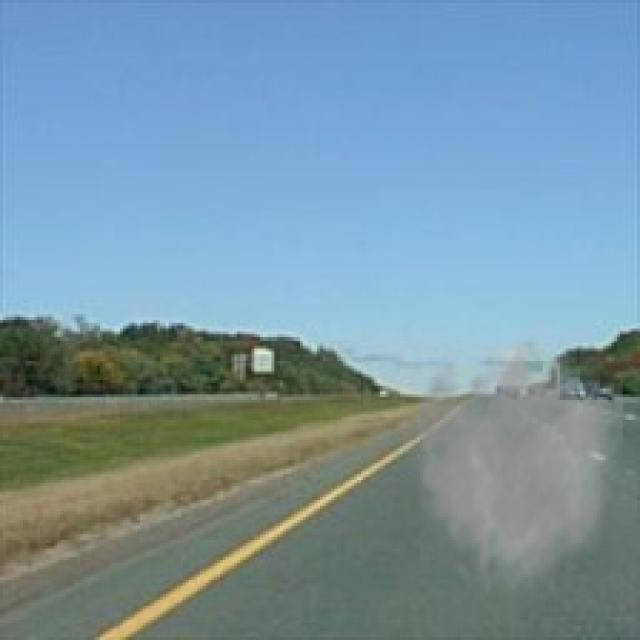smoke: (397, 334, 623, 606)
